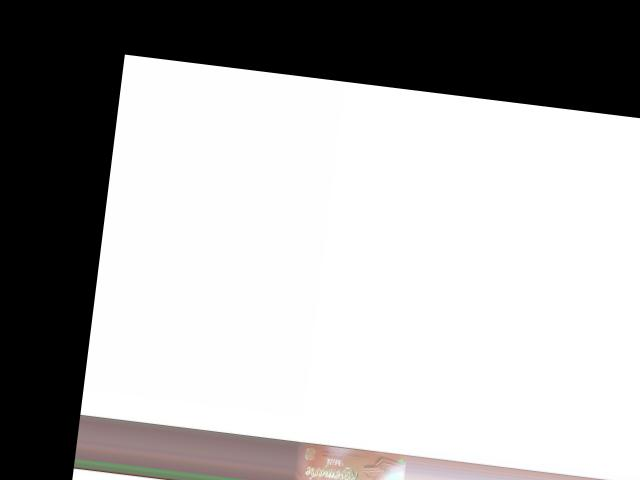chocolate: (289, 441, 405, 480)
